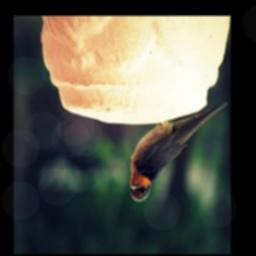Swallow: (128, 101, 228, 205)
